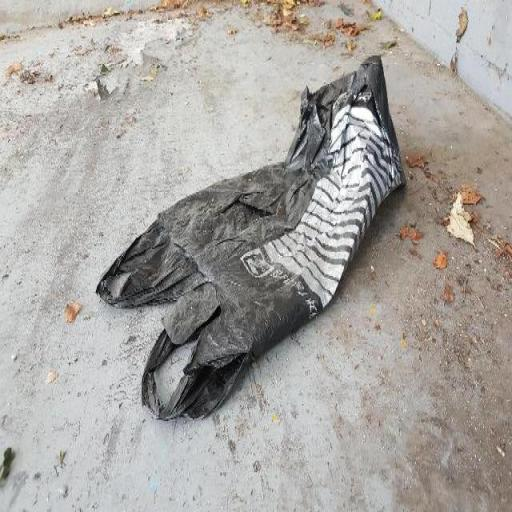plastic-bag: (95, 54, 407, 426)
